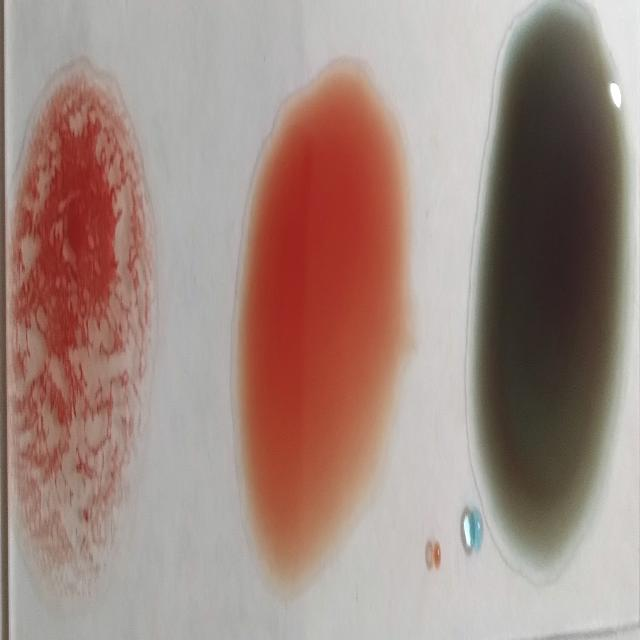D: (11, 69, 147, 566)
